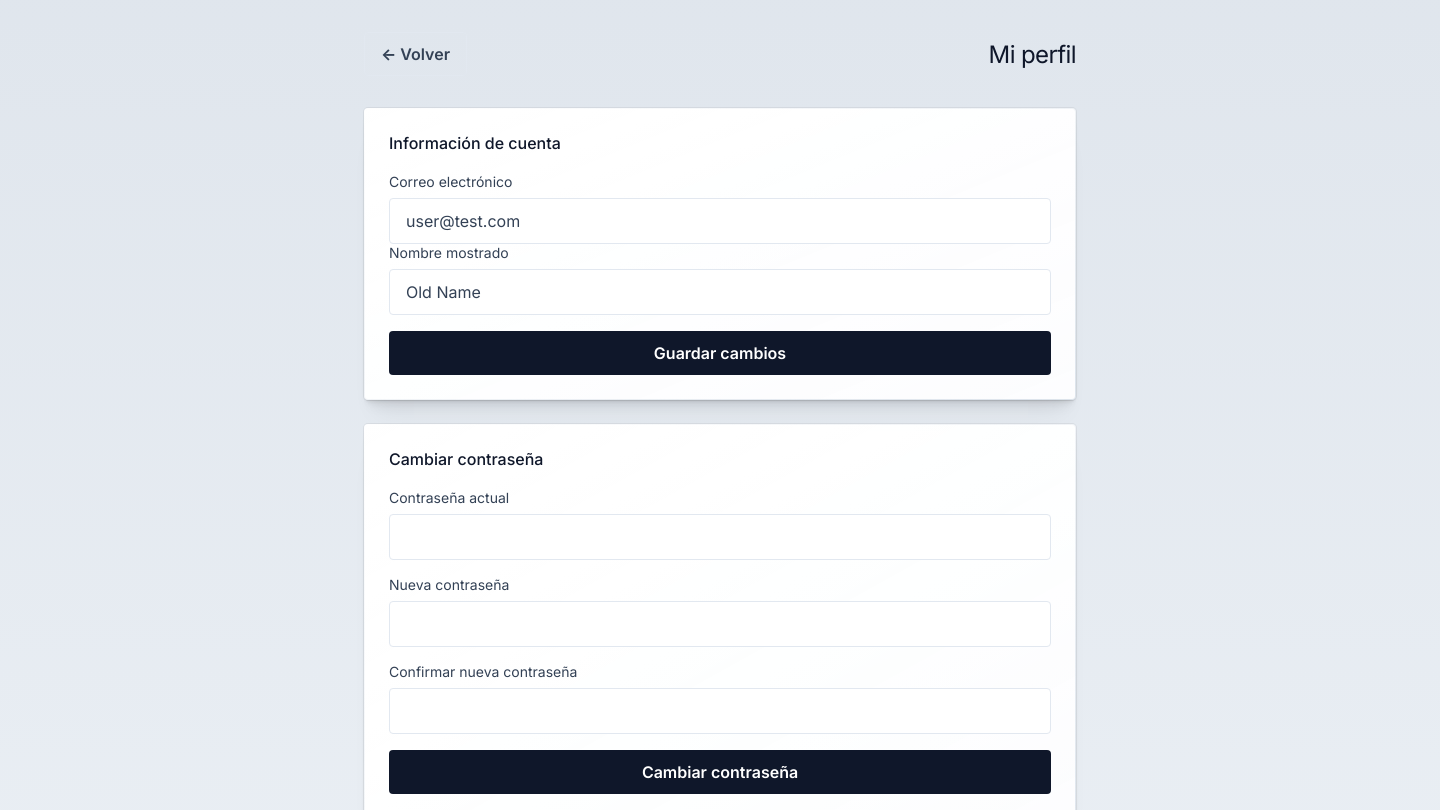
Test: ProfileView › changes the password, adopts the new session, clears the form and shows a toast
Type "OldPass123$" into the password field labelled "Contraseña actual" at (720, 537), box [389, 514, 1051, 560]
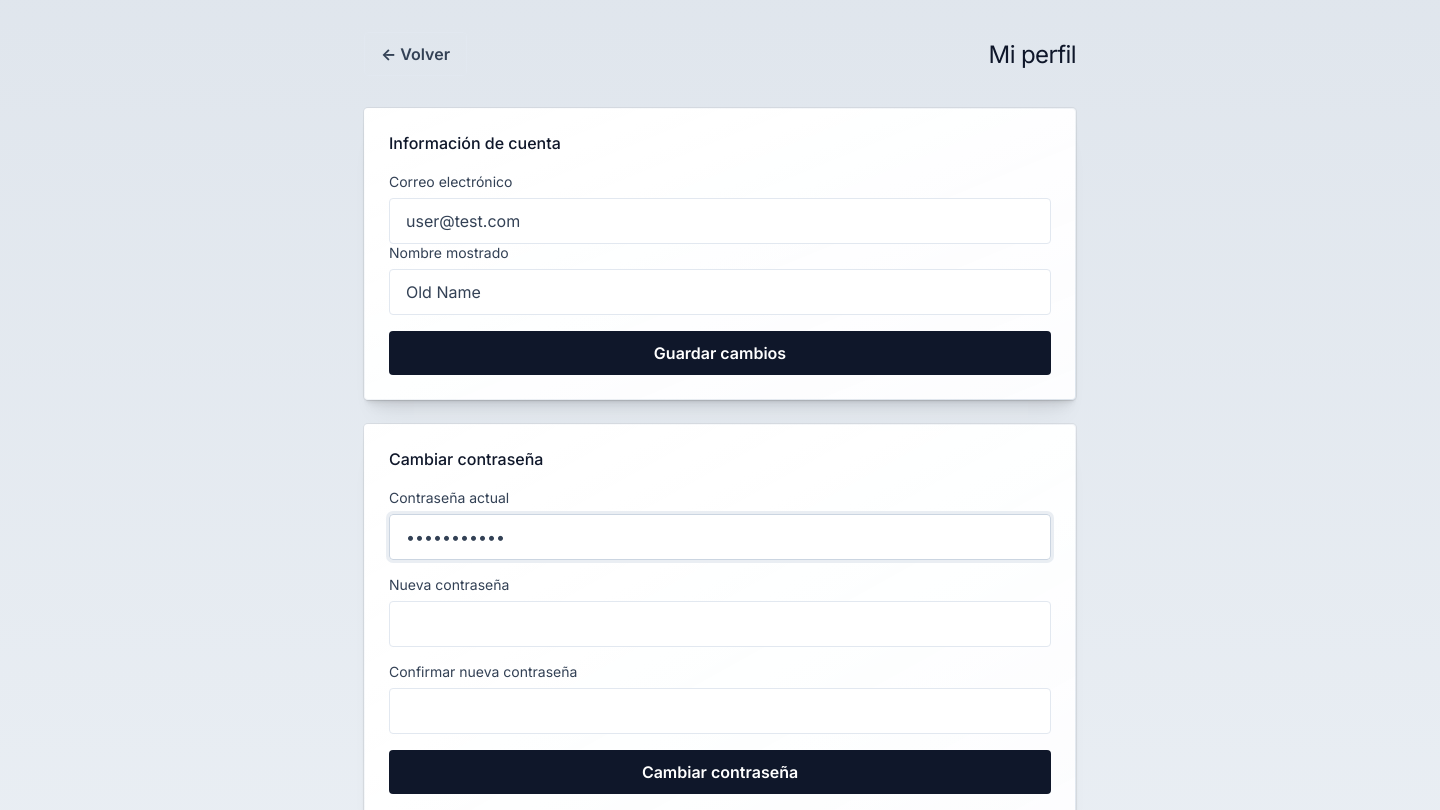
Type "NewPass123$" into the password field labelled "Nueva contraseña" at (720, 624), box [389, 601, 1051, 647]
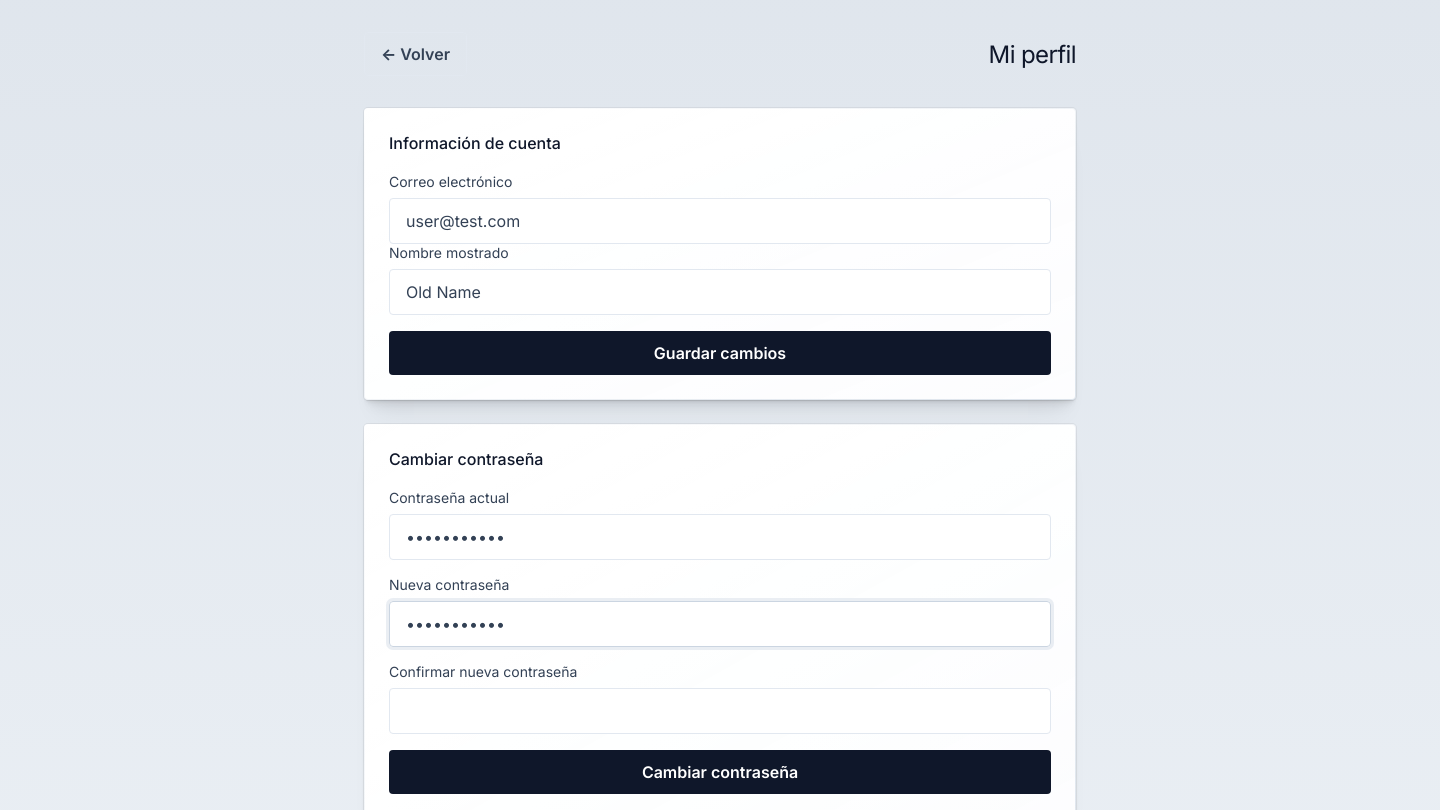
Type "NewPass123$" into the password field labelled "Confirmar nueva contraseña" at (720, 711), box [389, 688, 1051, 734]
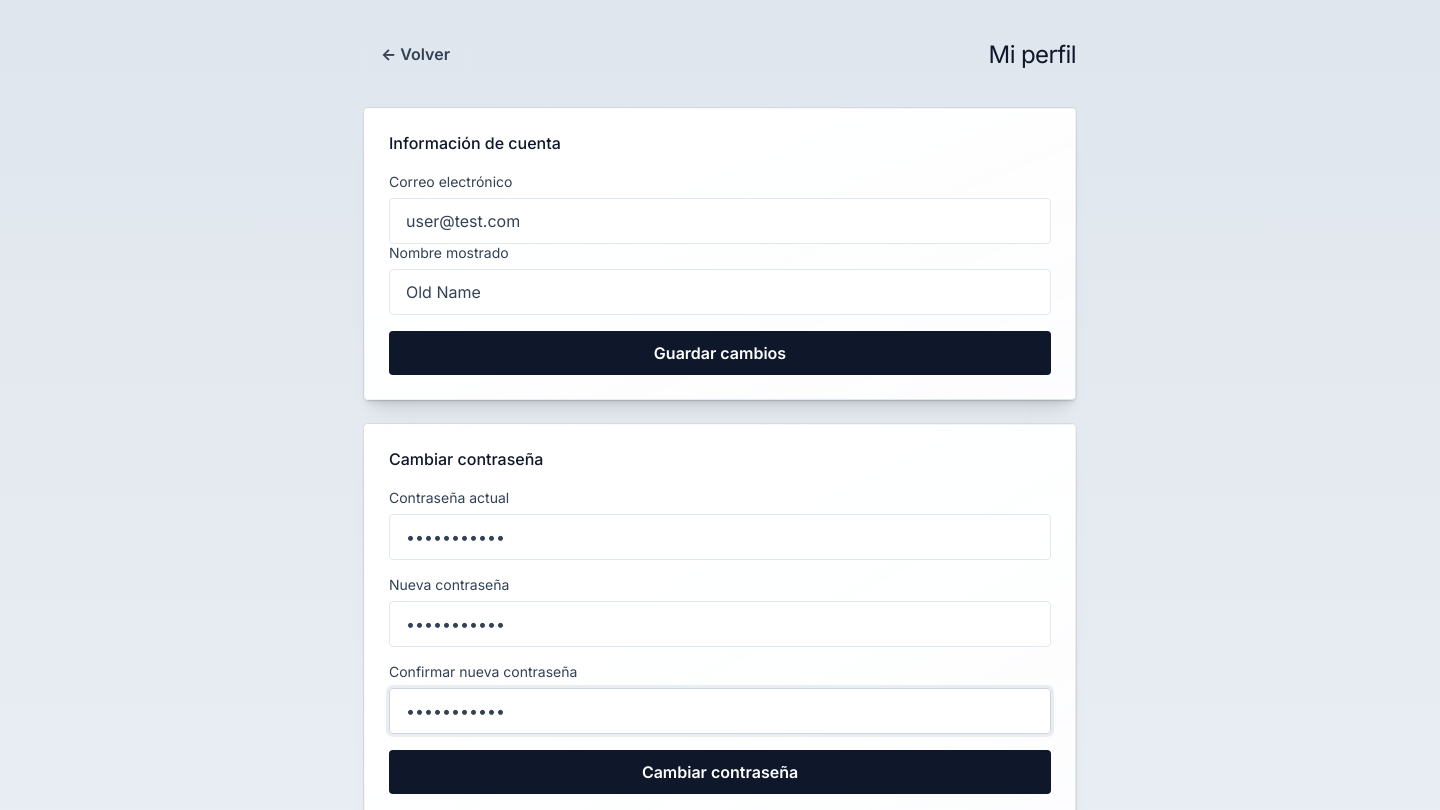
Click the button "Cambiar contraseña" at (720, 772), box [389, 750, 1051, 794]
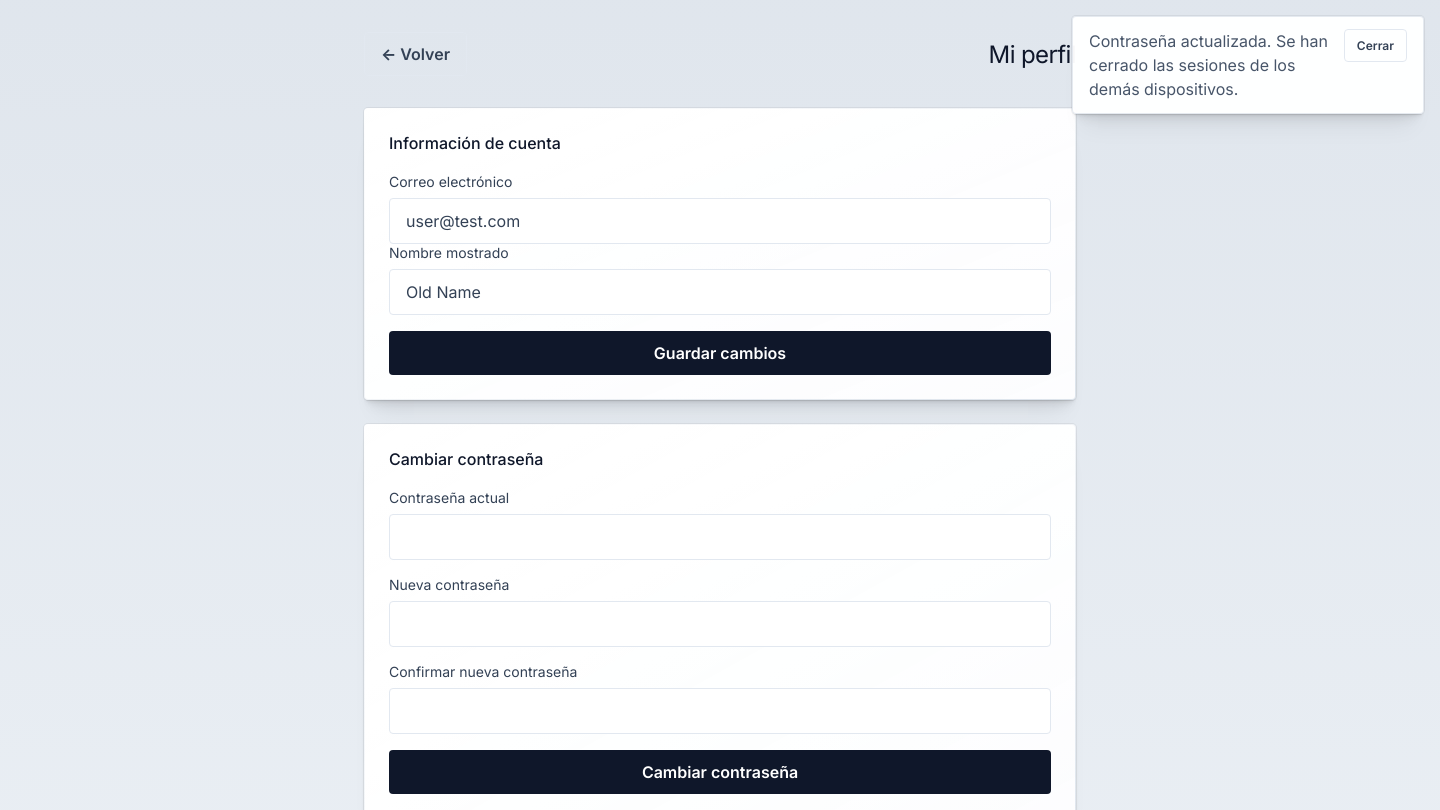
Expected: the text "Contraseña actualizada. Se han cerrado las sesiones de los demás dispositivos." is shown, [1089, 29, 1332, 101]
Expected: the password field labelled "Contraseña actual" is empty, [389, 514, 1051, 560]
Expected: the password field labelled "Nueva contraseña" is empty, [389, 601, 1051, 647]
